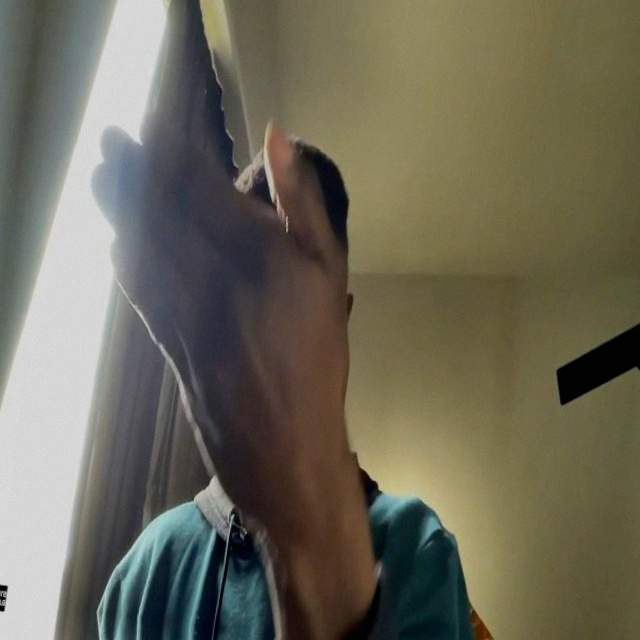Paper: (47, 97, 388, 537)
